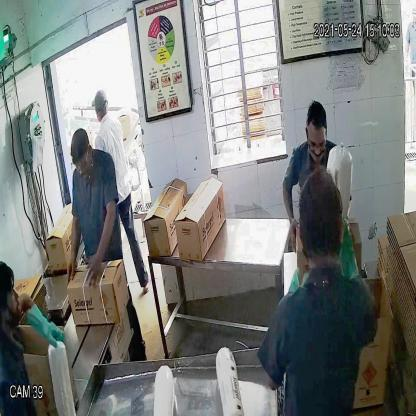goggles: (306, 130, 328, 154)
